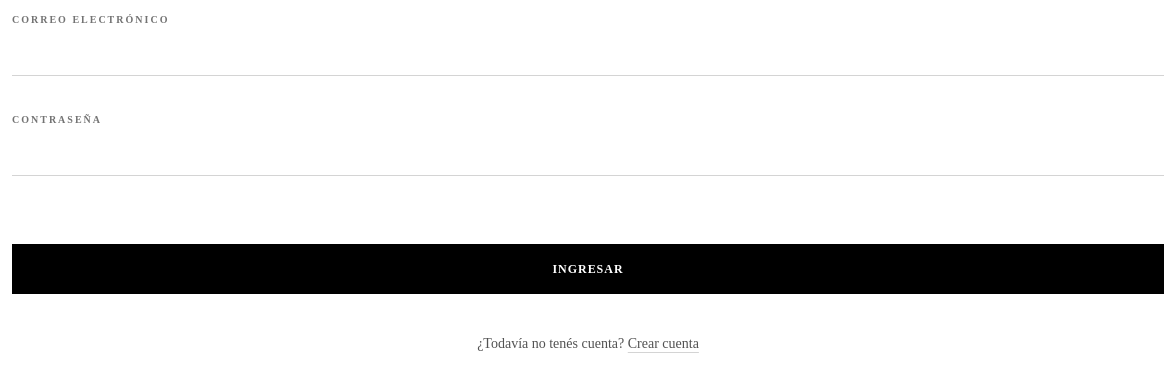
Test case: SignInForm: validation › rejects a malformed email
Type "not-an-email" into the field labelled "Correo electrónico" at (588, 52), box [12,27,1164,76]
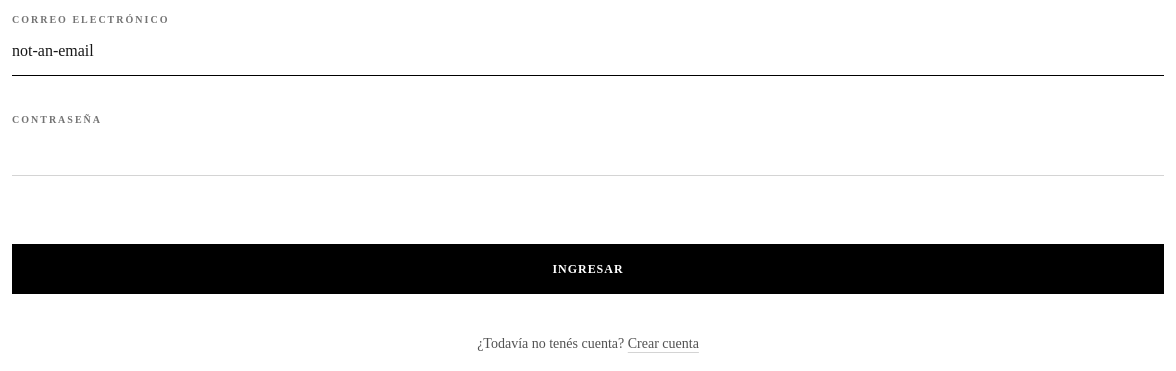
Type "whatever" into the password field labelled "Contraseña" at (588, 152), box [12,127,1164,176]
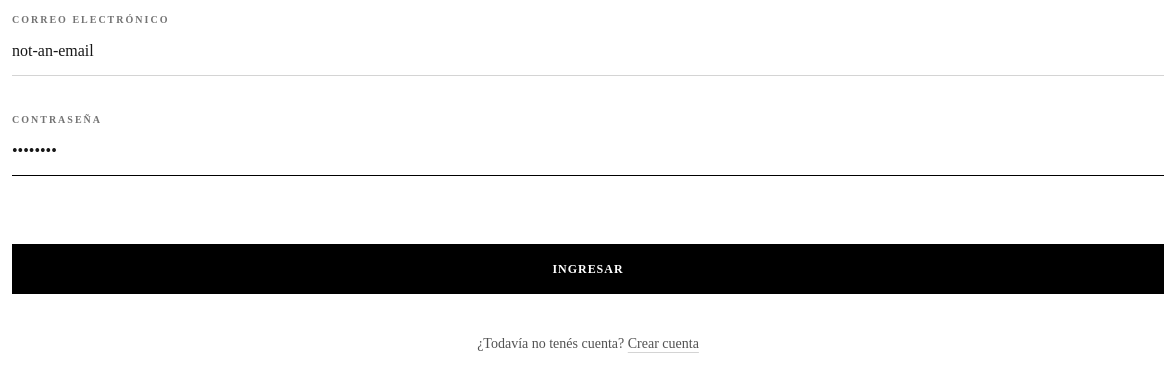
Click the button "Ingresar" at (588, 269), box [12,244,1164,294]
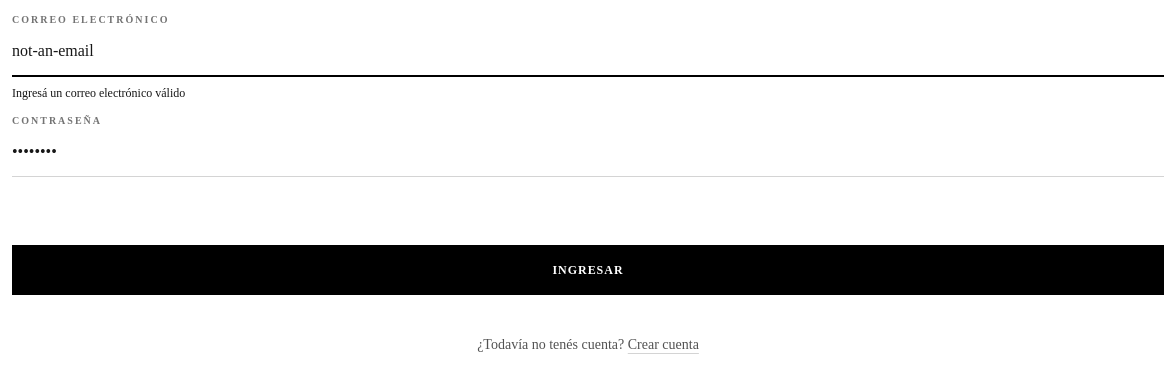
Expected: the text "Ingresá un correo electrónico válido" is shown, [12,86,185,100]
